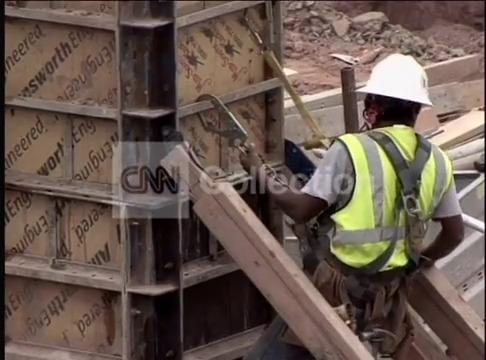Helmet: (359, 56, 428, 104)
Person: (239, 52, 464, 359)
Safety Vest: (335, 138, 434, 264)
bare-arms: (237, 140, 265, 171)
